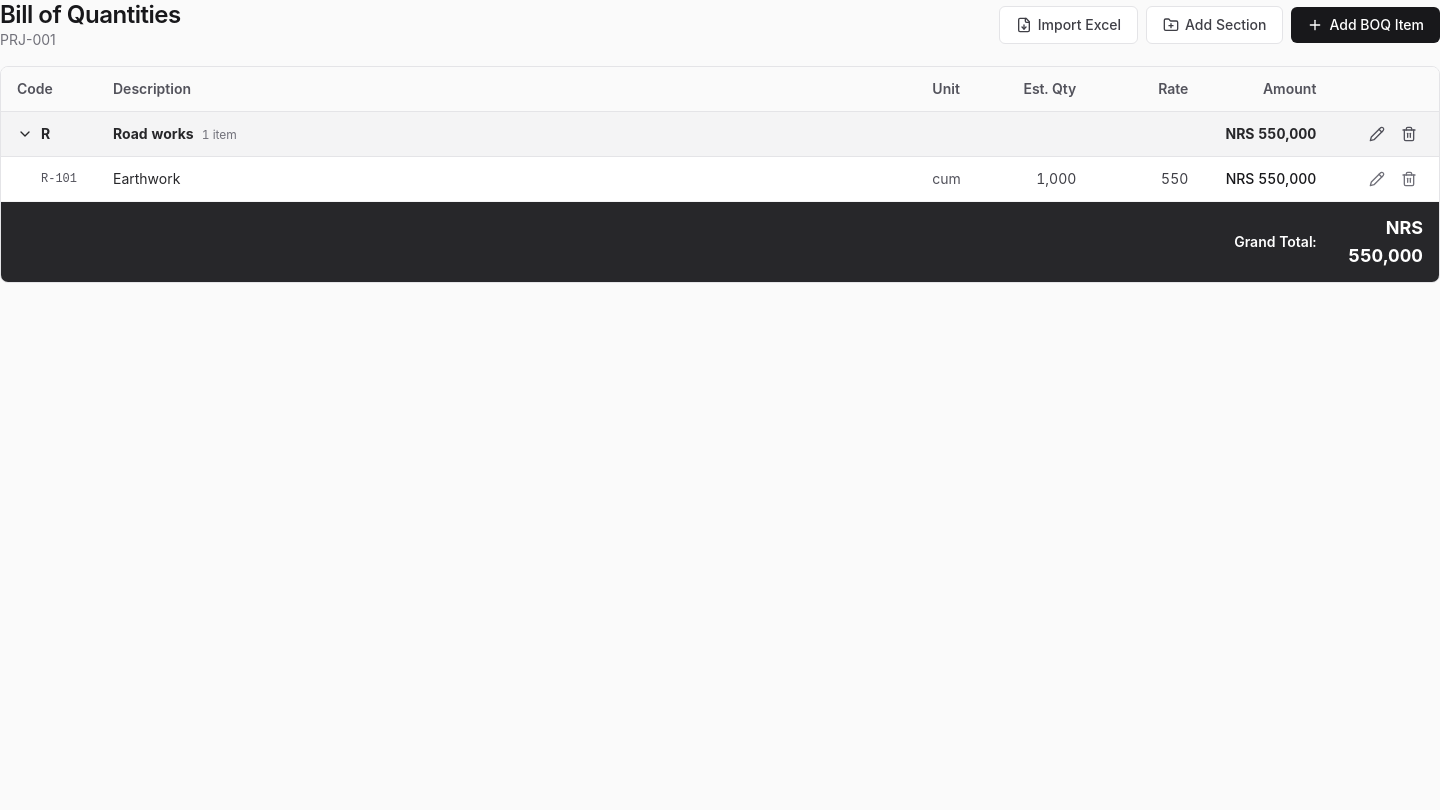
Test: BOQ page — validation › rejects a duplicate section code
Click the button with test id "add-section": (1215, 25) [1146,6,1283,44]
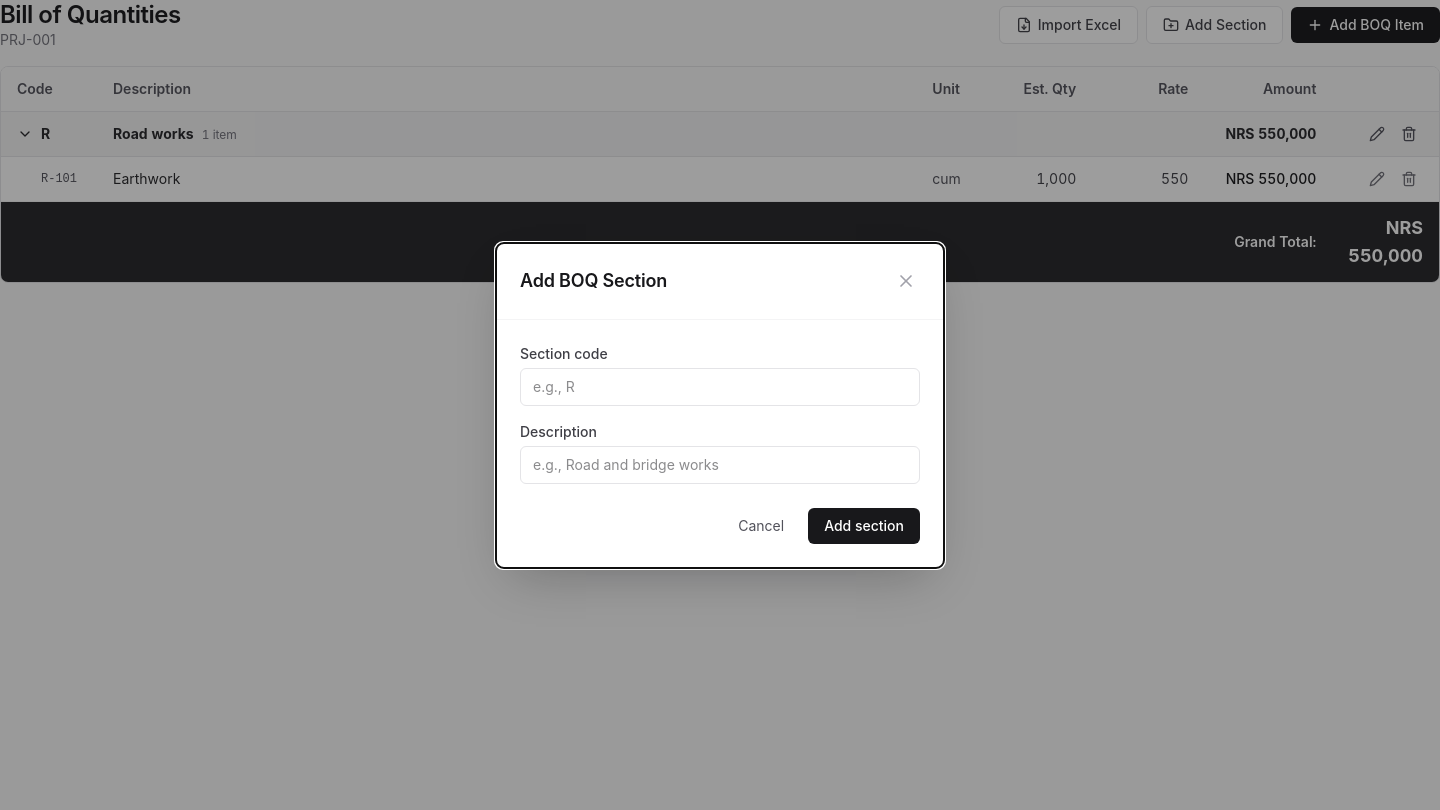
In the field labelled "Section code": (720, 386) [520,368,920,406], type "r"
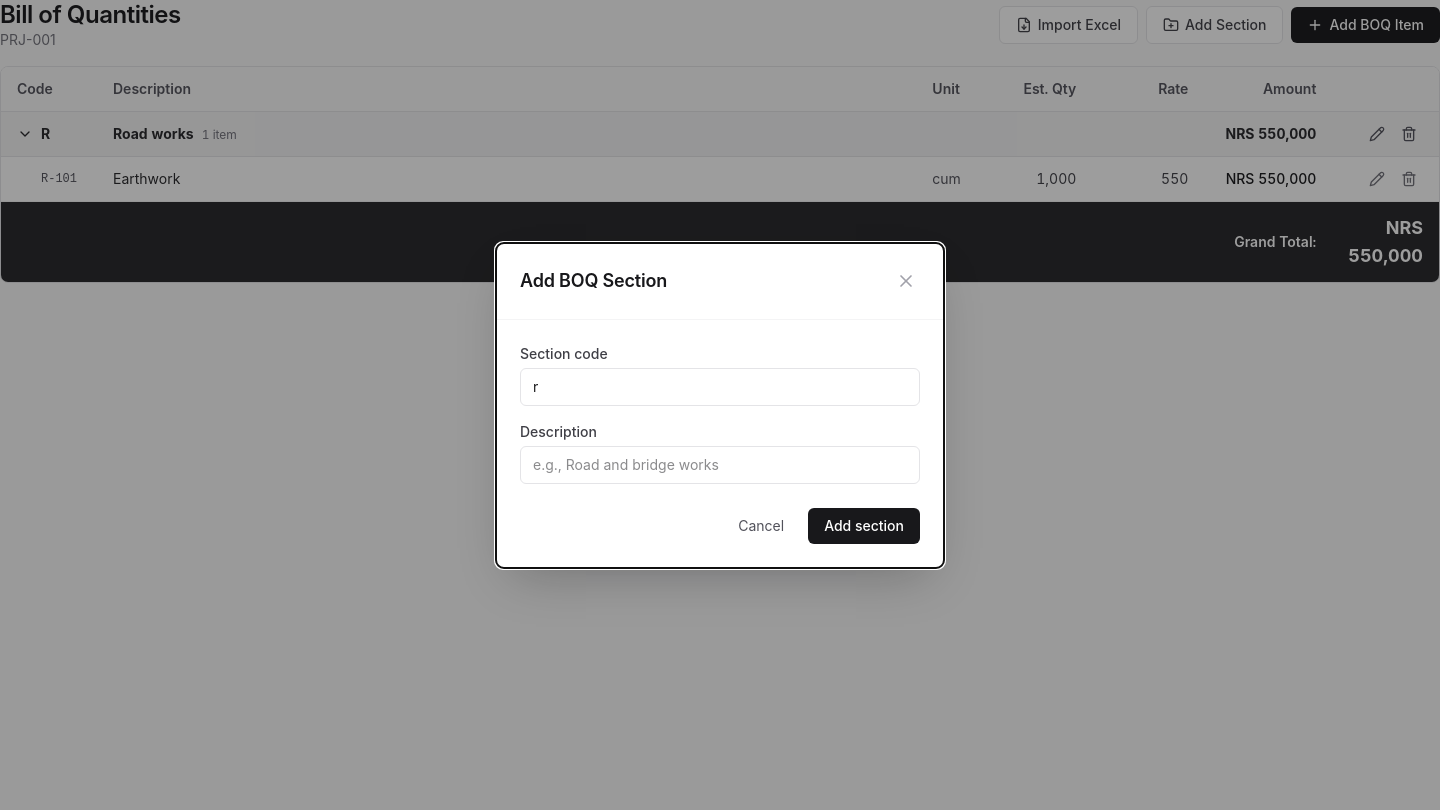
In the field labelled "Description": (720, 464) [520,446,920,484], type "Another road section"
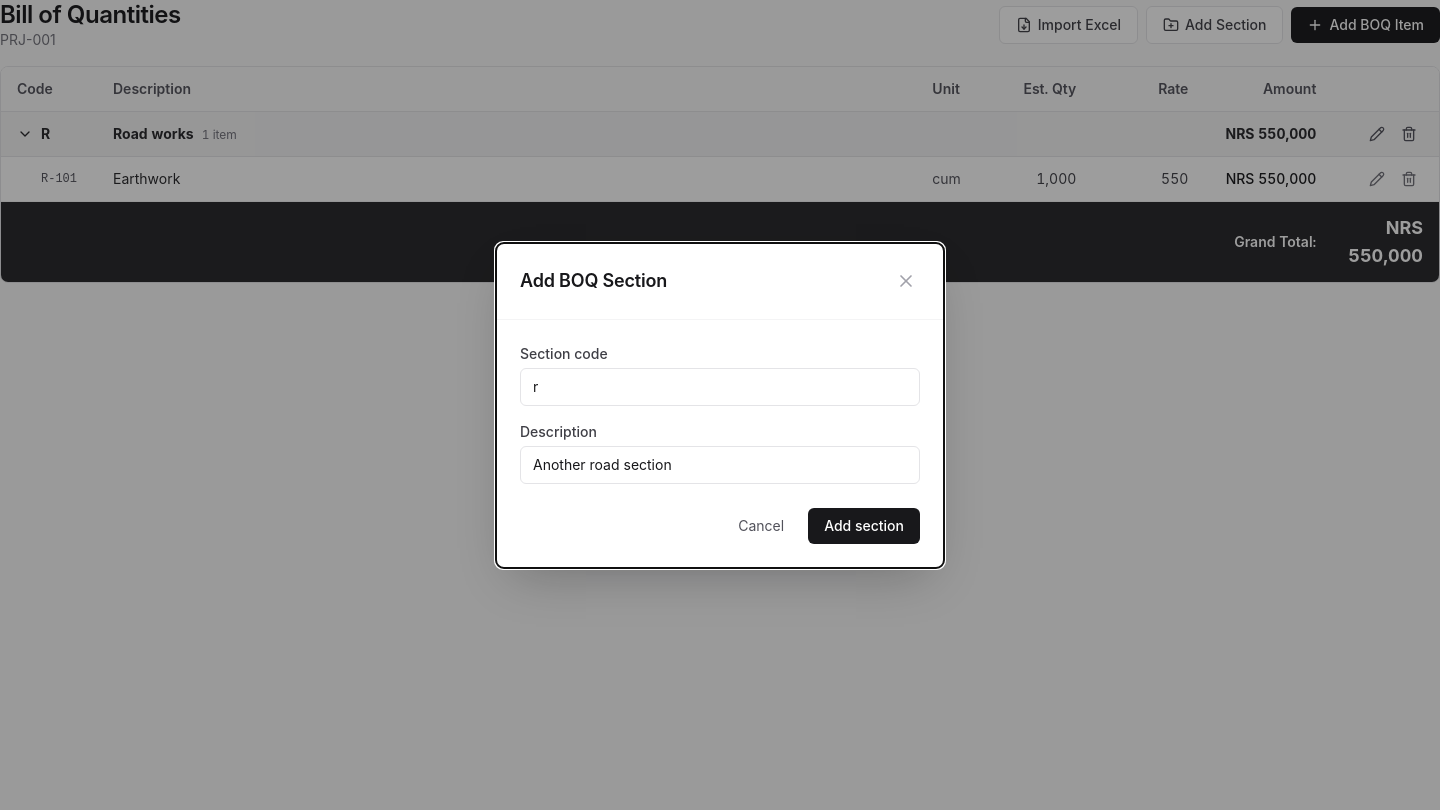
Click the button "Add section": (864, 526) [808,508,920,544]
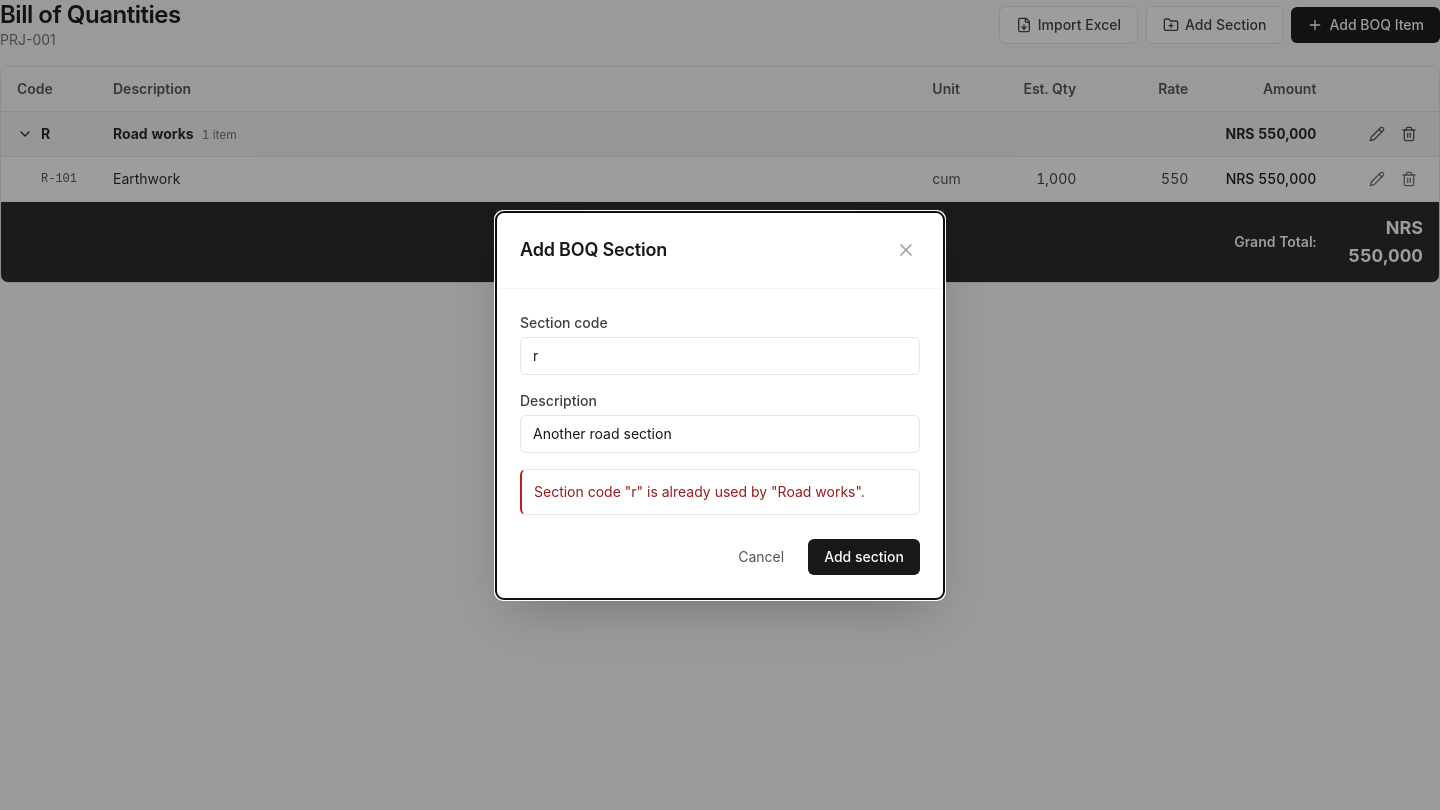
expect the message with test id "boq-section-errors" shows "already used": met, box [534,482,865,500]
